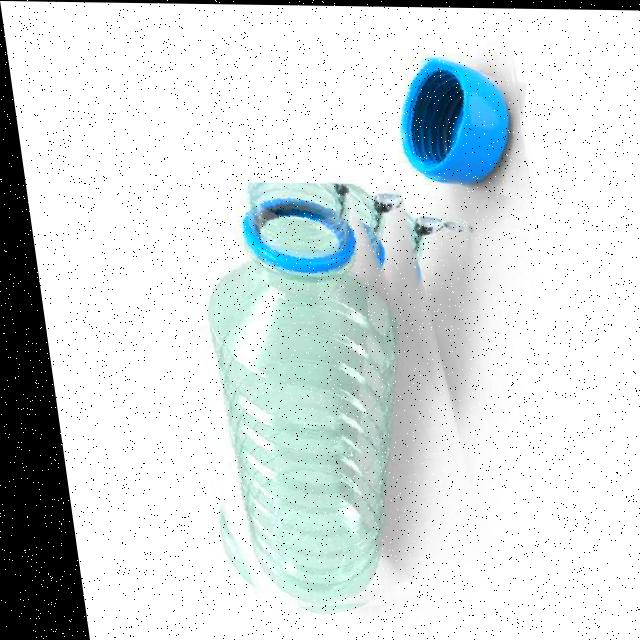plasticbottle: (140, 179, 482, 616)
plasticbottlecap: (374, 54, 530, 189)
